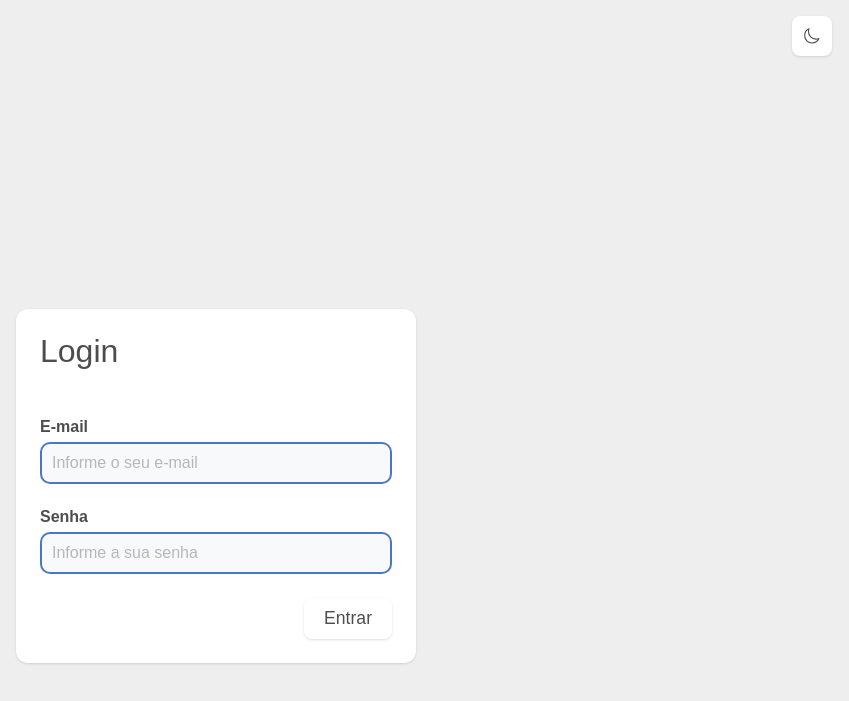
Scenario: Form de de login › Deve exibir erro de campo obrigatório quando estiver vazio
Click the button "Entrar" at (348, 618), box [304,598,392,639]
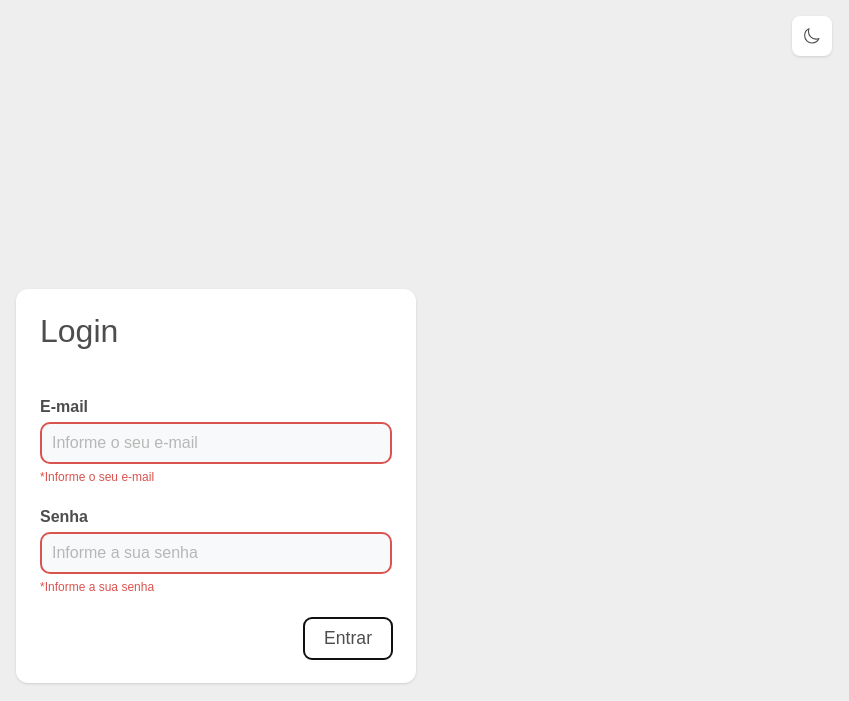
Check: the text "*Informe o seu e-mail" is shown, box [40,470,154,484]
Check: the text "*Informe a sua senha" is shown, box [40,580,154,594]
